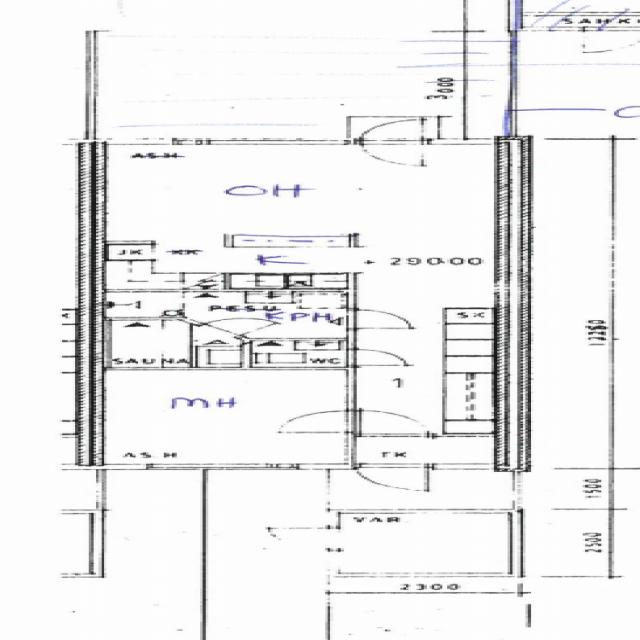door: (364, 463, 428, 491), (200, 313, 273, 337), (362, 119, 424, 145), (362, 412, 428, 436), (362, 140, 424, 165), (283, 411, 356, 432), (268, 529, 340, 548), (348, 311, 410, 328), (348, 350, 403, 365)
